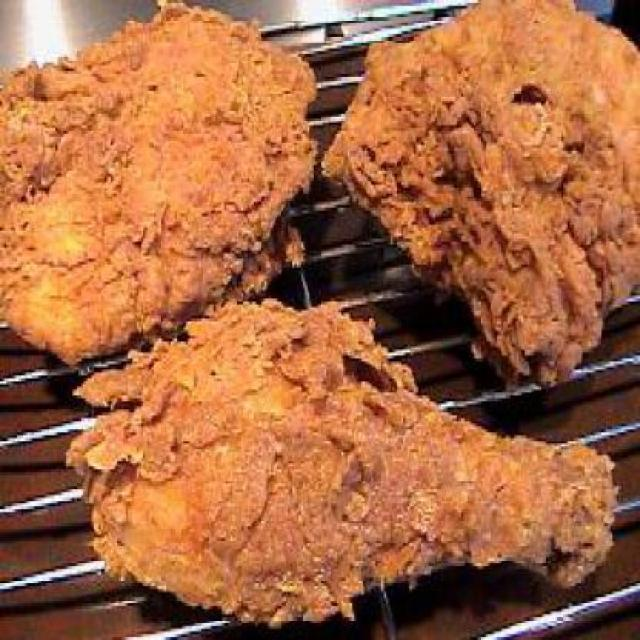Chicken -Fried Chicken-: (72, 302, 617, 626), (322, 0, 638, 388), (0, 0, 318, 358)
